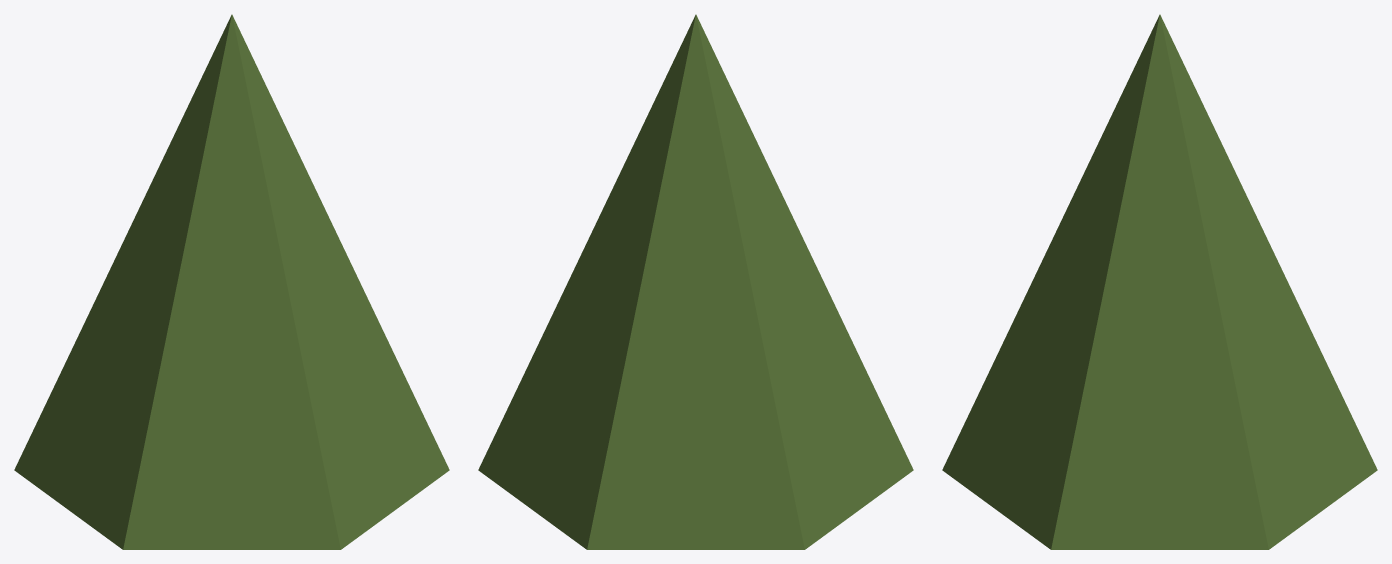
Rendered from nature_zelkova_b_lod2.glb.
3 views of the same model, side by side, from view 1: azimuth 30°, elevation 25°; view 2: azimuth 150°, elevation 25°; view 3: azimuth 270°, elevation 25° (orthographic).
Parts seen in each view (by area): view 1: nature_zelkova_b_lod2; view 2: nature_zelkova_b_lod2; view 3: nature_zelkova_b_lod2.
Boxes of the visible parts, x1=… form: nature_zelkova_b_lod2: x1=14, y1=14, x2=449, y2=549; nature_zelkova_b_lod2: x1=478, y1=14, x2=913, y2=549; nature_zelkova_b_lod2: x1=942, y1=14, x2=1377, y2=549.
Bounding box in the file's own units: 3.51 × 4.68 × 4.05.
